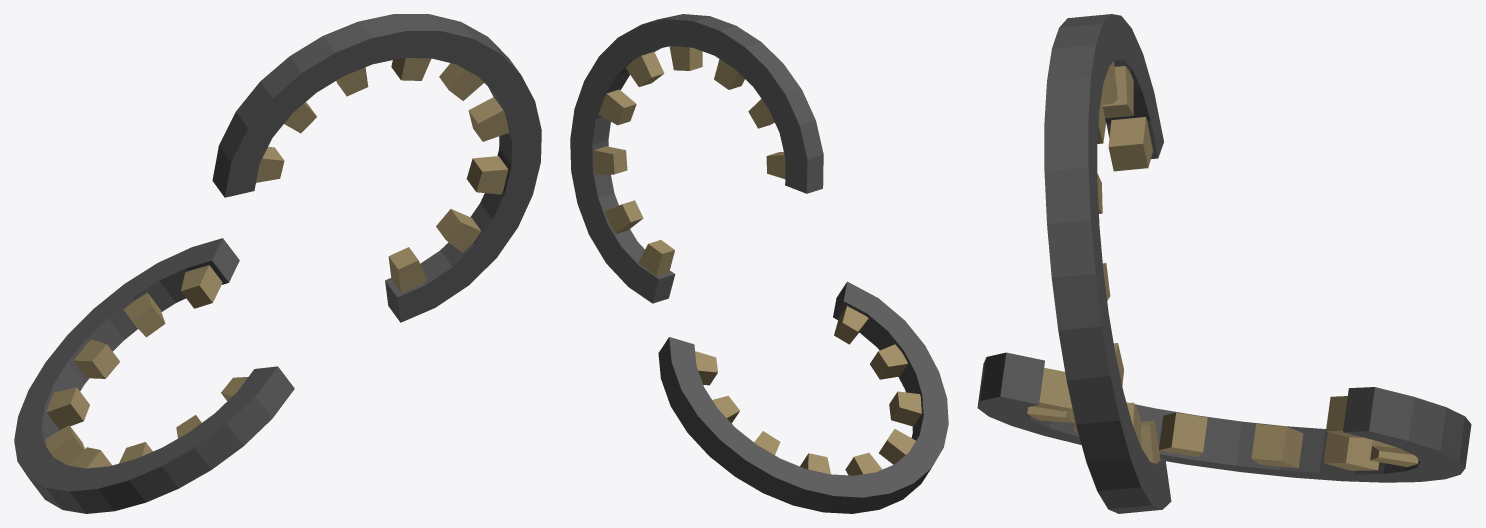
Rendered from 2_3art.fbx.
3 views of the same model, side by side, from view 1: azimuth 30°, elevation 25°; view 2: azimuth 150°, elevation 25°; view 3: azimuth 270°, elevation 25° (orthographic). The views are drawn at different scales.
Visible parts, largest first — view 1: Cube.001; view 2: Cube.001; view 3: Cube.001.
Part boxes in pixels (box(x1,y1,x2,y2)): Cube.001: box(14, 14, 541, 513); Cube.001: box(570, 14, 948, 513); Cube.001: box(977, 14, 1471, 513).
Bounding box in the file's own units: 255 × 242 × 172.
